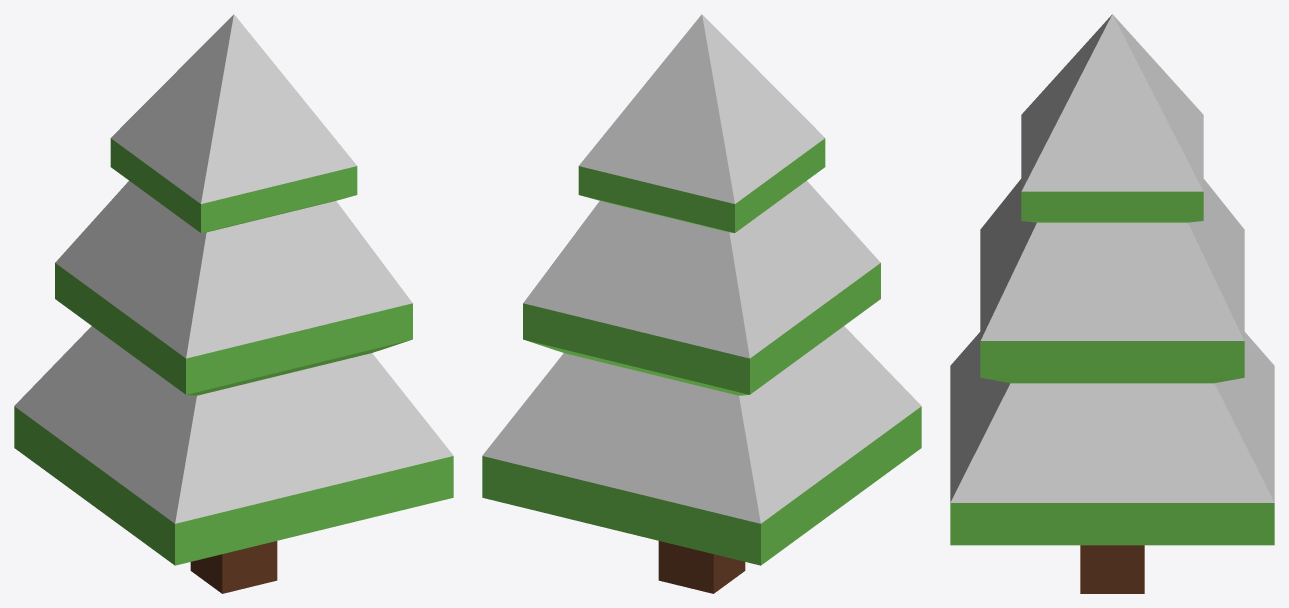
The model's file is Tree.fbx.
3 views of the same model, side by side, from view 1: azimuth 30°, elevation 25°; view 2: azimuth 150°, elevation 25°; view 3: azimuth 270°, elevation 25° (orthographic).
Parts seen in each view (by area): view 1: Cube; view 2: Cube; view 3: Cube.
Boxes of the visible parts, bbox=[...] form: Cube: bbox=[14, 14, 453, 593]; Cube: bbox=[482, 14, 921, 593]; Cube: bbox=[950, 14, 1274, 593].
Size of the model in its own units: 293 by 564 by 293.
